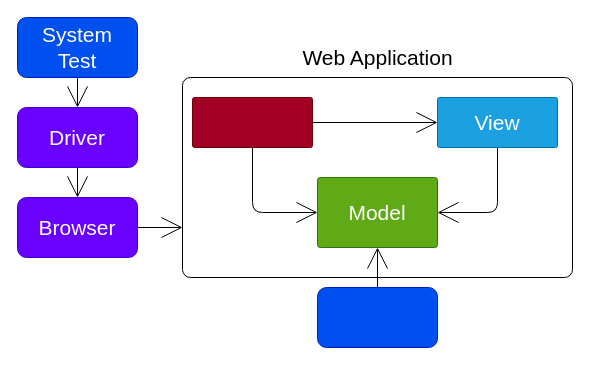
Some shapes in this 590 by 365 pixel diagram are drawn without their labels. Each missing label, with the centre of its shape:
"Controller" belongs at pixel 252 122.
"Unit Tests" belongs at pixel 377 317.
